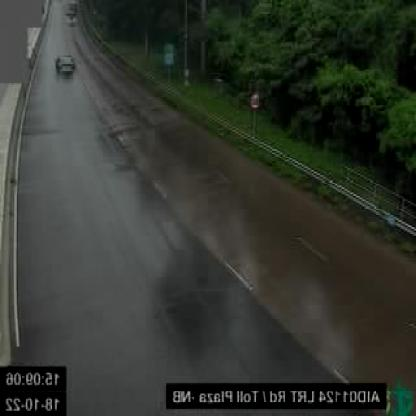Car: (53, 52, 77, 80)
